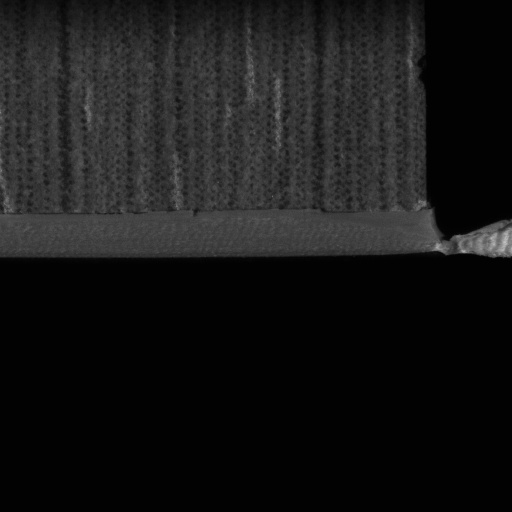changdai: (423, 208, 511, 259)
